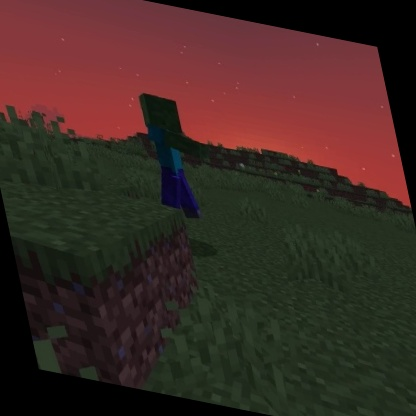zombie: (132, 89, 224, 227)
